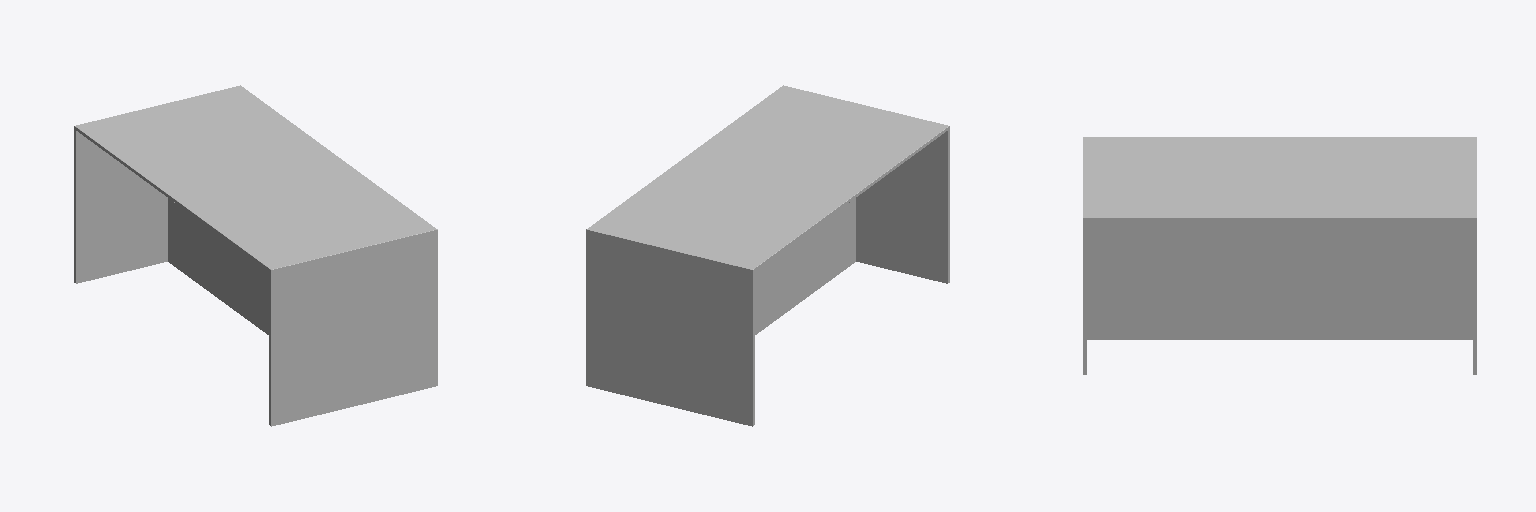
The model's file is cooking_space.obj.
3 views of the same model, side by side, from view 1: azimuth 30°, elevation 25°; view 2: azimuth 150°, elevation 25°; view 3: azimuth 270°, elevation 25° (orthographic).
Parts seen in each view (by area): view 1: Cube.016_Cube.035; view 2: Cube.016_Cube.035; view 3: Cube.016_Cube.035.
Boxes of the visible parts, x1=… form: Cube.016_Cube.035: x1=74, y1=85, x2=437, y2=426; Cube.016_Cube.035: x1=586, y1=85, x2=949, y2=426; Cube.016_Cube.035: x1=1083, y1=137, x2=1476, y2=374.
Bounding box in the file's own units: 1 × 0.9 × 2.05.